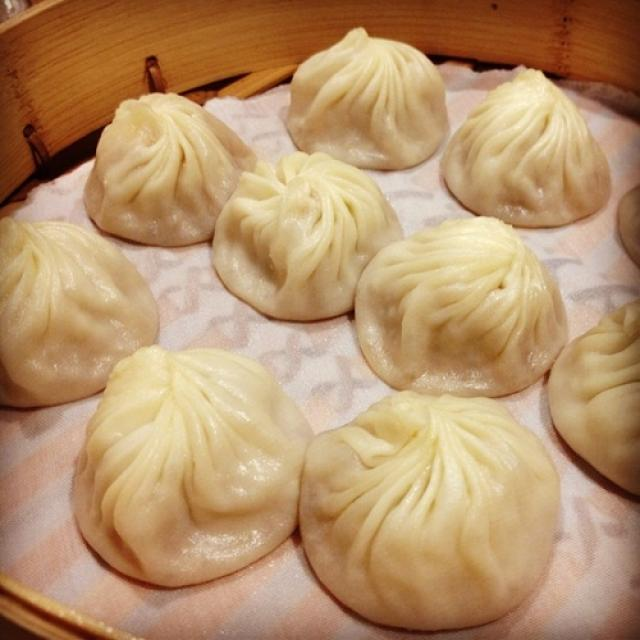带馅早点: (22, 13, 609, 591)
